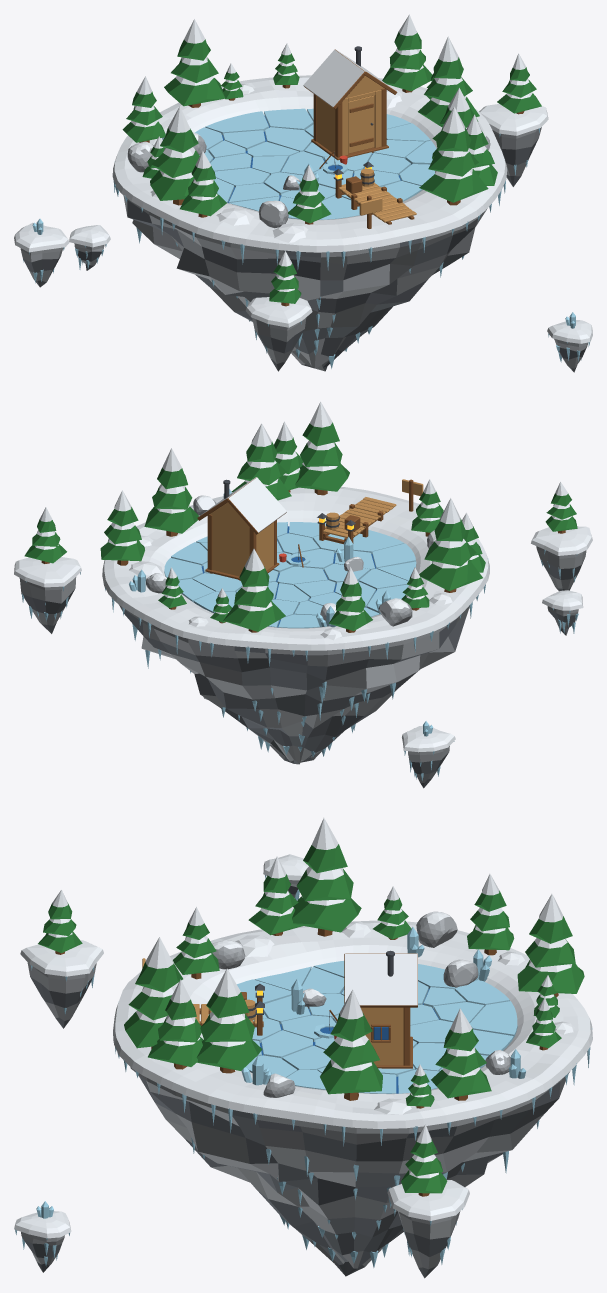
Rendered from frozen-lake-sky-island.glb.
3 renders of one model, top to bottom at view 1: azimuth 30°, elevation 25°; view 2: azimuth 150°, elevation 25°; view 3: azimuth 270°, elevation 25°, orthographic. The views are drawn at different scales.
Parts seen in each view (by area): view 1: Pines, Island_Rock, Island_Snow, Lake_Ice, FishingHut, FloatRock_1, FloatRock_3, FloatRock_2, FloatRock_4, Jetty, Door, SnowDrifts (+4 smaller); view 2: Pines, Island_Rock, Island_Snow, Lake_Ice, FishingHut, FloatRock_1, FloatRock_3, FloatRock_2, Island_Icicles, Jetty, FloatRock_5, SnowDrifts (+2 smaller); view 3: Pines, Island_Rock, Island_Snow, Lake_Ice, FishingHut, FloatRock_1, FloatRock_3, FloatRock_4, Island_Icicles, IceCrystals, SnowDrifts, IcyRock_3 (+3 smaller).
Part boxes in pixels (x1,y1,x2,y2): Pines: [122, 14, 497, 224]; Island_Rock: [123, 195, 487, 371]; Island_Snow: [112, 75, 507, 252]; Lake_Ice: [195, 108, 436, 219]; FishingHut: [303, 46, 397, 160]; FloatRock_1: [479, 53, 548, 186]; FloatRock_3: [245, 251, 312, 371]; FloatRock_2: [14, 218, 69, 287]; FloatRock_4: [547, 312, 592, 372]; Jetty: [335, 180, 416, 224]; Door: [348, 95, 374, 153]; SnowDrifts: [150, 84, 401, 242]; Pines: [100, 401, 485, 632]; Island_Rock: [119, 605, 469, 764]; Island_Snow: [102, 487, 489, 650]; Lake_Ice: [164, 522, 416, 628]; FishingHut: [197, 477, 286, 580]; FloatRock_1: [14, 507, 81, 633]; FloatRock_3: [531, 482, 592, 591]; FloatRock_2: [402, 721, 455, 788]; Island_Icicles: [105, 558, 489, 757]; Jetty: [319, 497, 396, 544]; FloatRock_5: [542, 590, 583, 635]; SnowDrifts: [129, 535, 452, 640]; Pines: [124, 818, 584, 1108]; Island_Rock: [130, 1067, 569, 1276]; Island_Snow: [113, 920, 592, 1128]; Lake_Ice: [208, 961, 517, 1093]; FishingHut: [344, 950, 417, 1068]; FloatRock_1: [387, 1124, 469, 1278]; FloatRock_3: [20, 890, 103, 1028]; FloatRock_4: [14, 1201, 71, 1272]; Island_Icicles: [115, 1028, 592, 1267]; IceCrystals: [241, 927, 525, 1085]; SnowDrifts: [170, 921, 574, 1114]; IcyRock_3: [416, 911, 457, 947].
Bounding box in the file's own units: 79.02 × 43.64 × 62.03.
